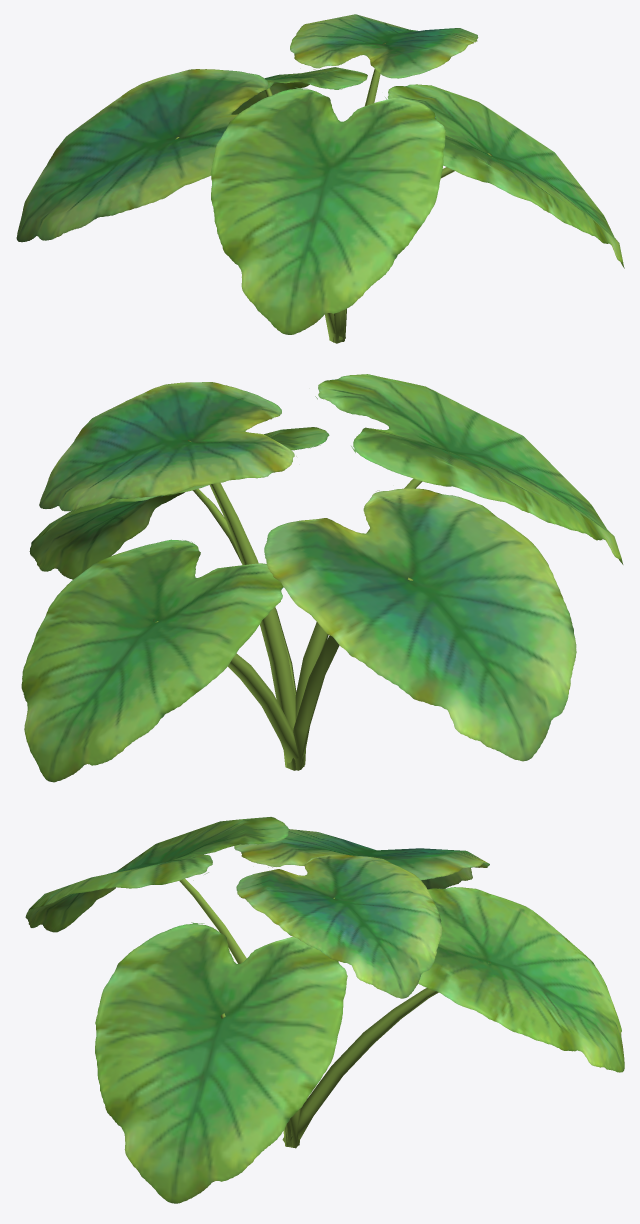
File: P_ElephantEars02_Desert.obj
3 renders of one model, top to bottom at view 1: azimuth 30°, elevation 25°; view 2: azimuth 150°, elevation 25°; view 3: azimuth 270°, elevation 25°, orthographic. The views are drawn at different scales.
Bounding box in the file's own units: 2.86 × 1.55 × 2.88.
